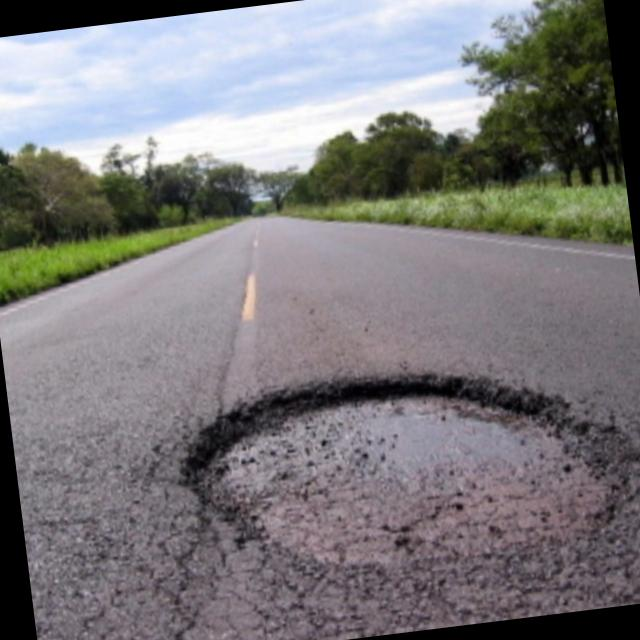Potholes: (162, 340, 640, 624)
